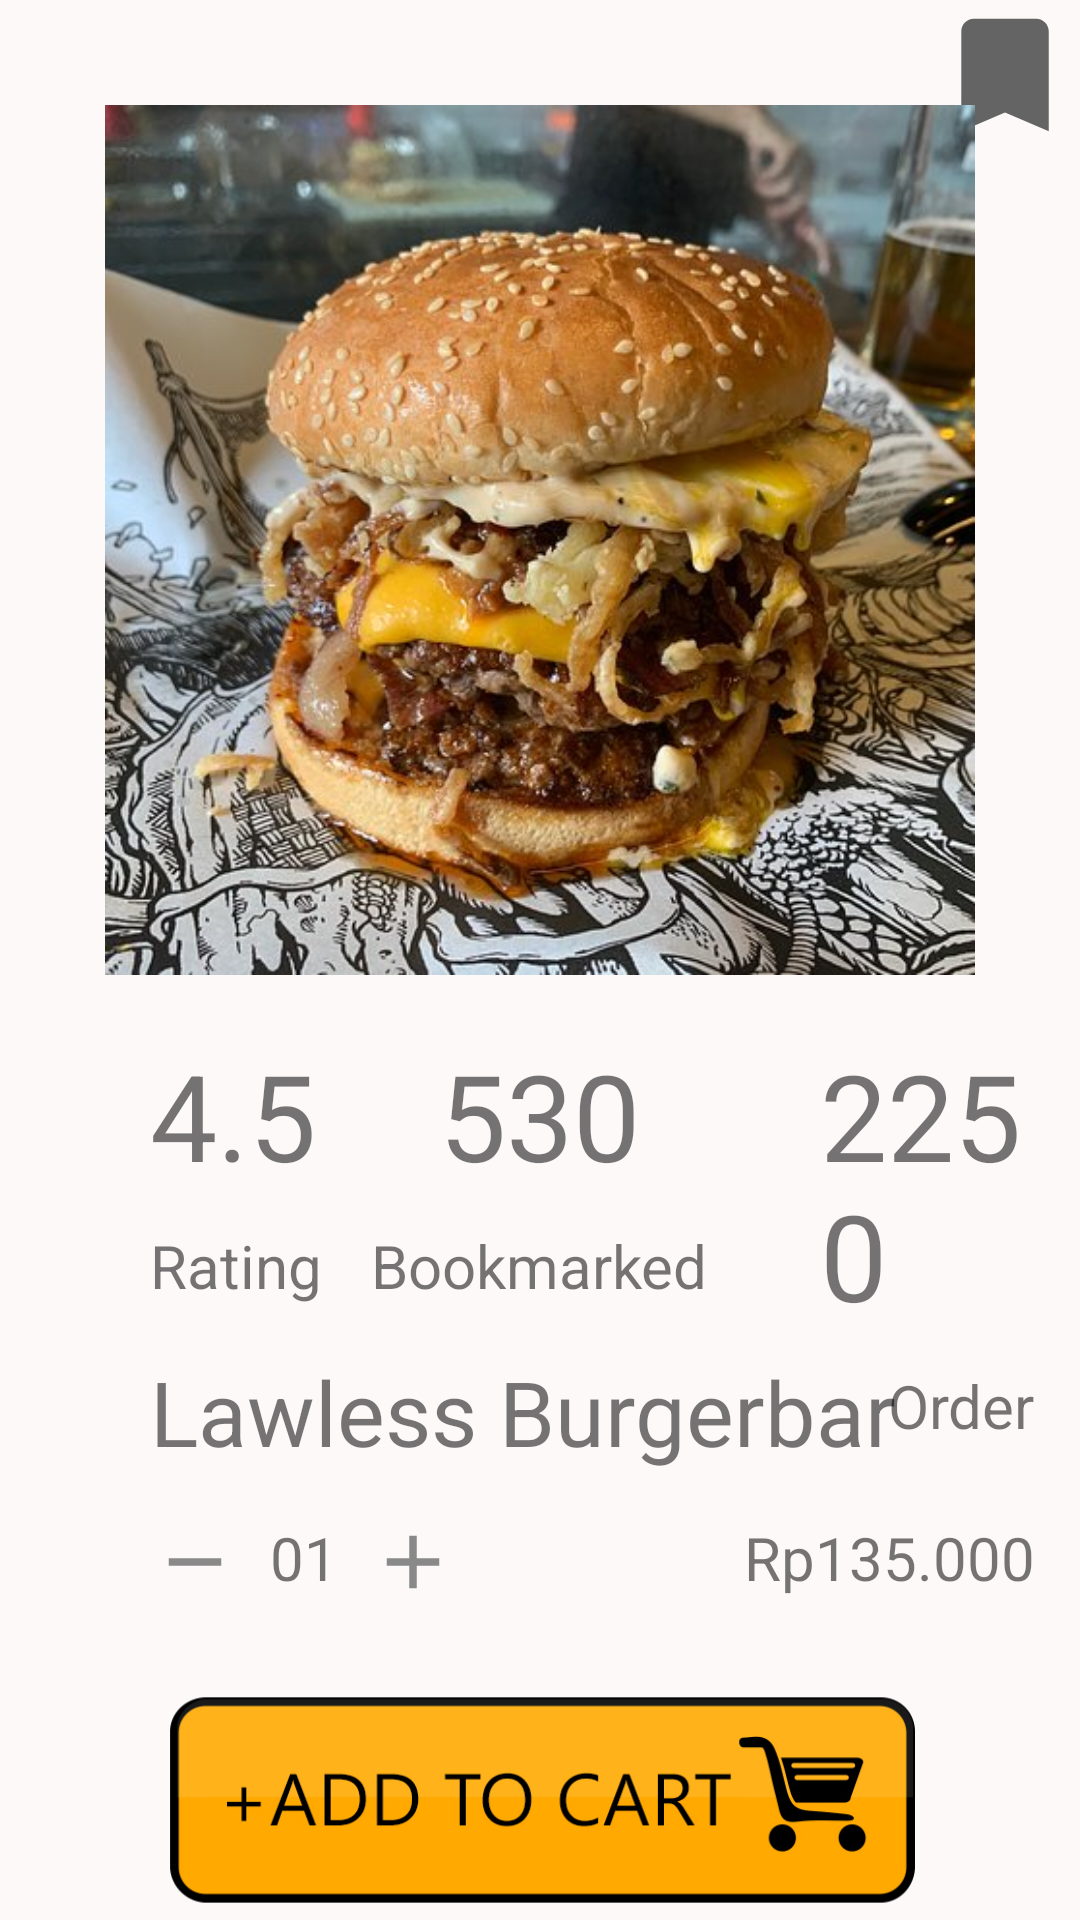

Icons on this 1080x1920 Android screen, each with its box as [x1=x1, y1=y1, x2=x2, y2=y2]:
add: [x1=386, y1=1535, x2=440, y2=1589]
bookmark: [x1=930, y1=18, x2=1049, y2=150]
